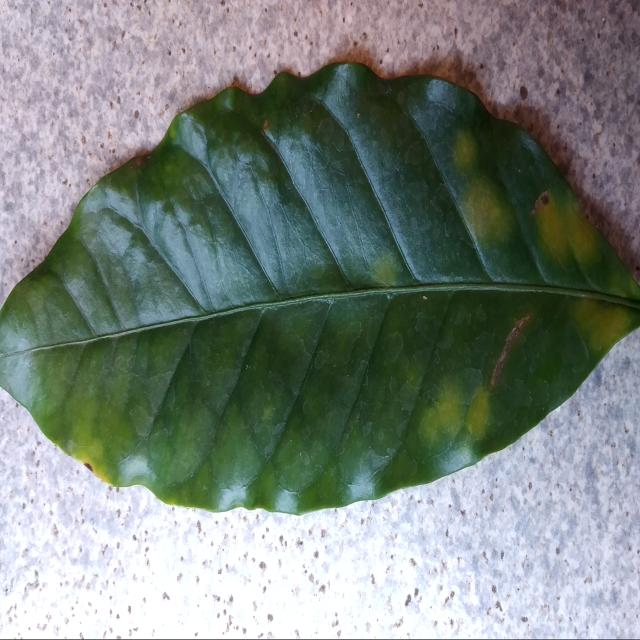Enfermedad-Roya: (0, 63, 640, 517)
